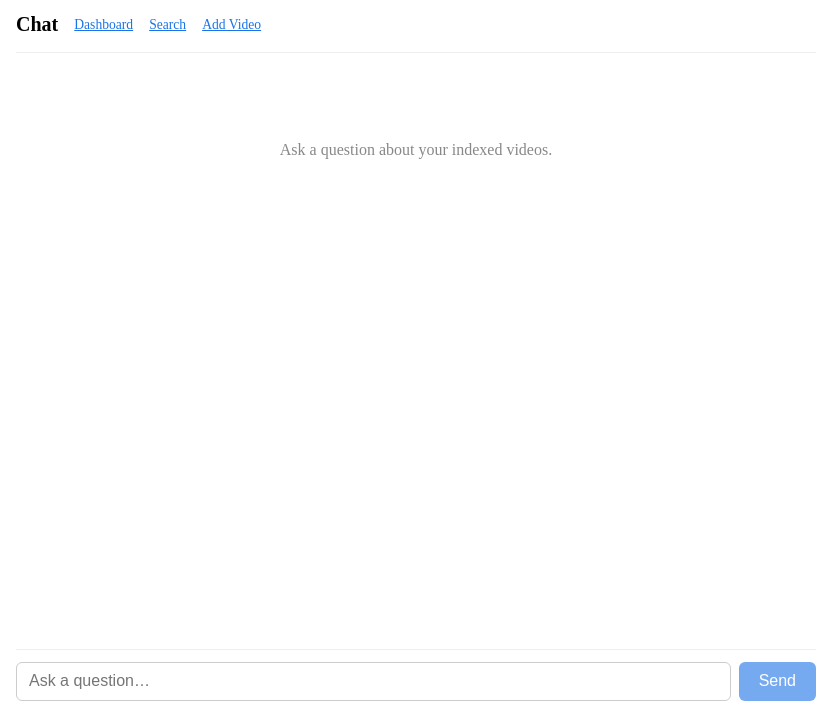
Test: ChatPage › accumulates tokens and shows the full answer after streaming completes
The width and height of the screenshot is (833, 709).
Type "What is ML?" into the field labelled "Ask a question…" at point(373, 681), box [16,662,731,701]
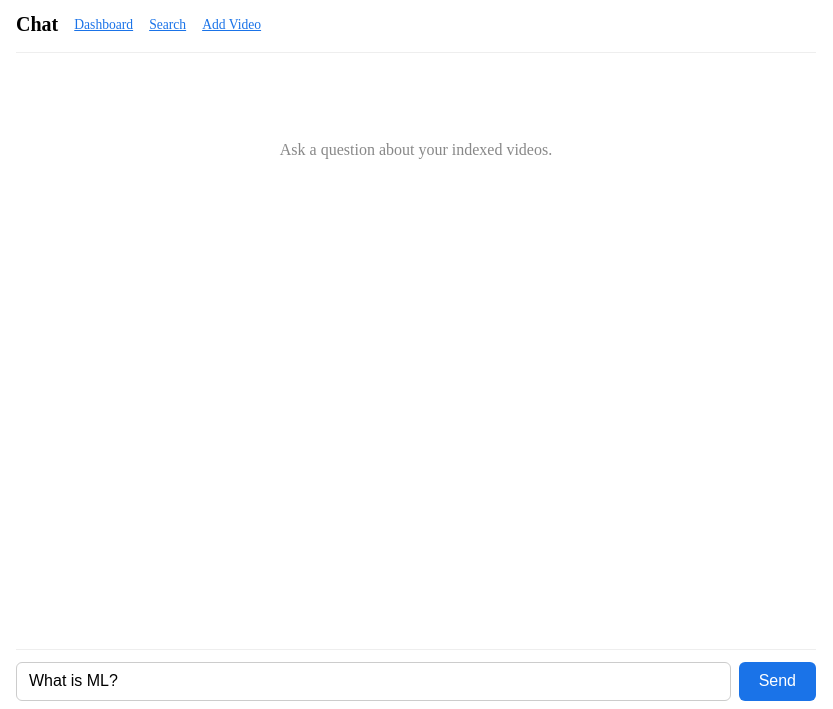
Click the button "Send" at point(777, 681), box [739,662,816,701]
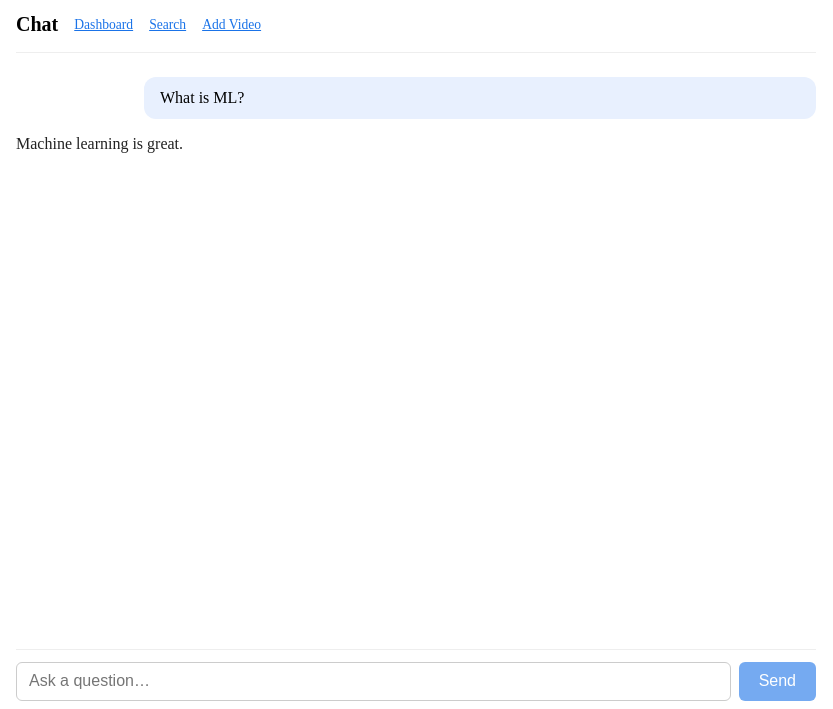
expect the text "Machine learning is great." is shown: met, box [16,135,183,152]
